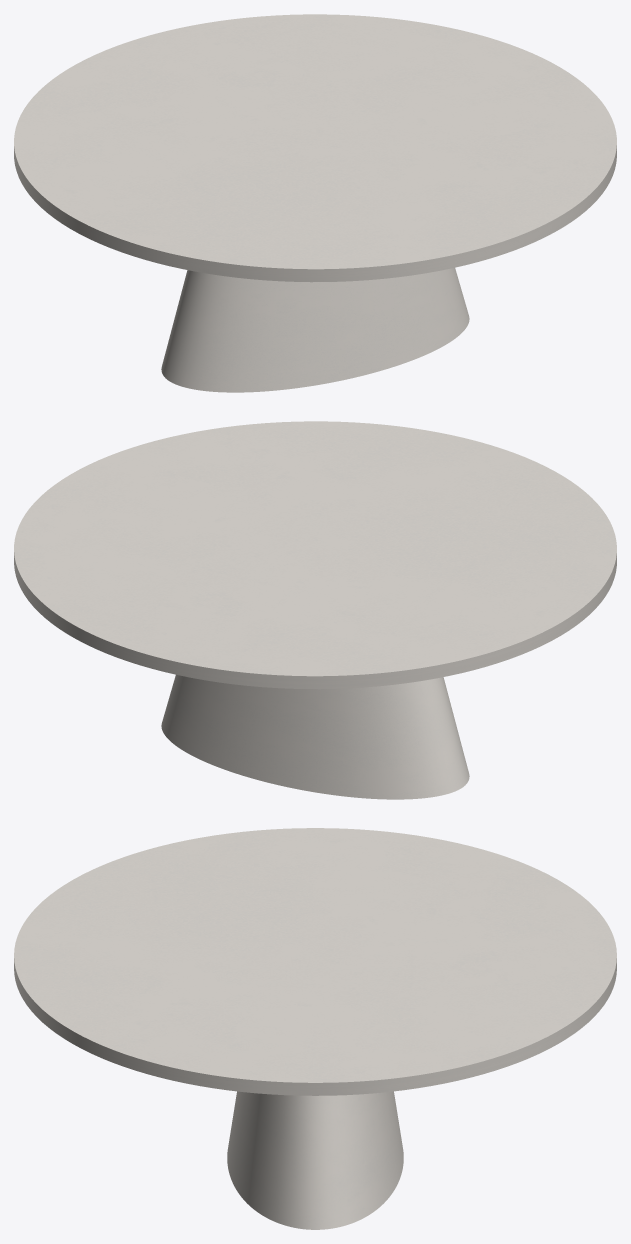
The model's file is pearlwhite_round_standard_eqone.glb.
The picture shows the model from 3 angles, top to bottom: view 1: azimuth 30°, elevation 25°; view 2: azimuth 150°, elevation 25°; view 3: azimuth 270°, elevation 25°; orthographic projection.
Visible parts, largest first — view 1: standard_round, eqone; view 2: standard_round, eqone; view 3: standard_round, eqone.
Part boxes in pixels (x1,y1,x2,y2): standard_round: [14, 14, 616, 282]; eqone: [161, 267, 469, 392]; standard_round: [14, 421, 616, 689]; eqone: [161, 674, 469, 799]; standard_round: [14, 828, 616, 1095]; eqone: [227, 1091, 403, 1229].
Bounding box in the file's own units: 6.75 × 2.5 × 6.75.
Materials: 1 (1 with a texture image).
